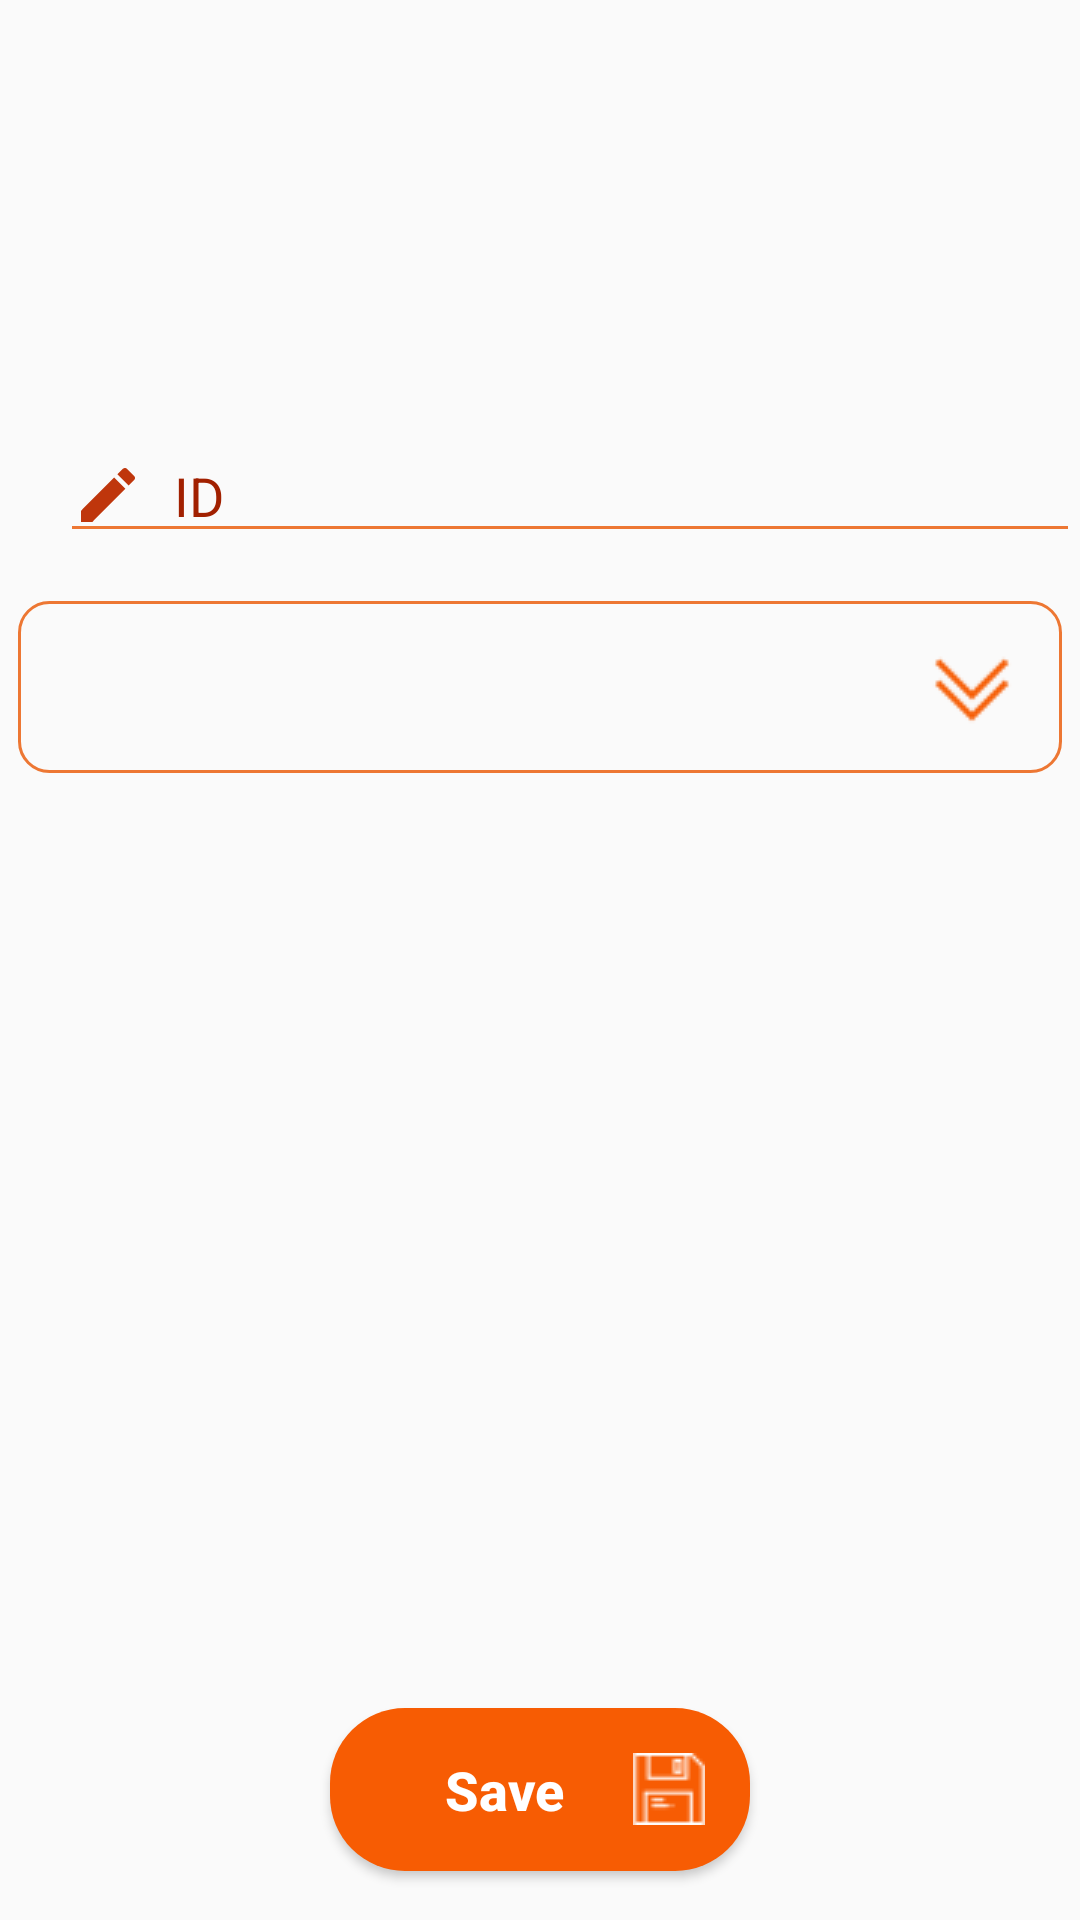

Point at icon controls on the screen. Image size 1080w x 1920h, points as (x,y).
drop: (972,690)
